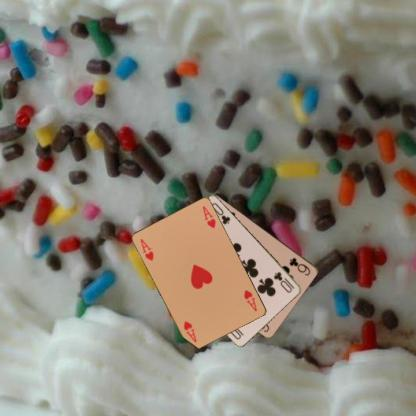10c: (271, 269, 296, 294)
6c: (287, 255, 312, 277)
Ah: (138, 236, 156, 262), (242, 287, 258, 313)
